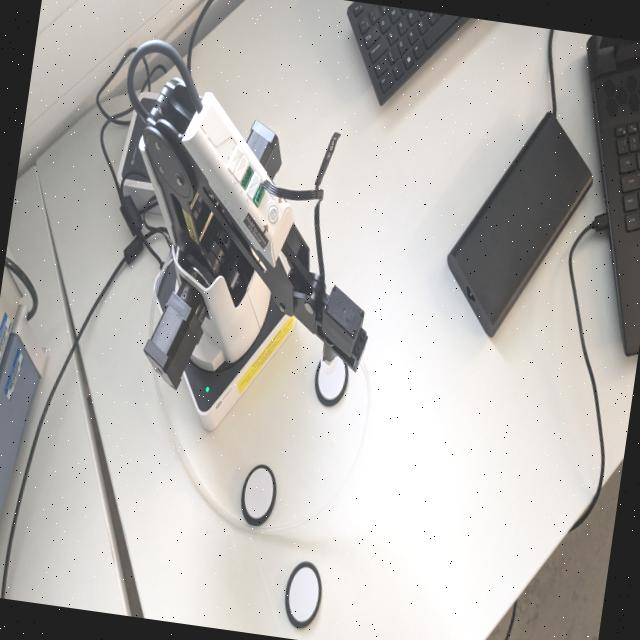Robot-end-effector-HF8z: (306, 279, 377, 382)
